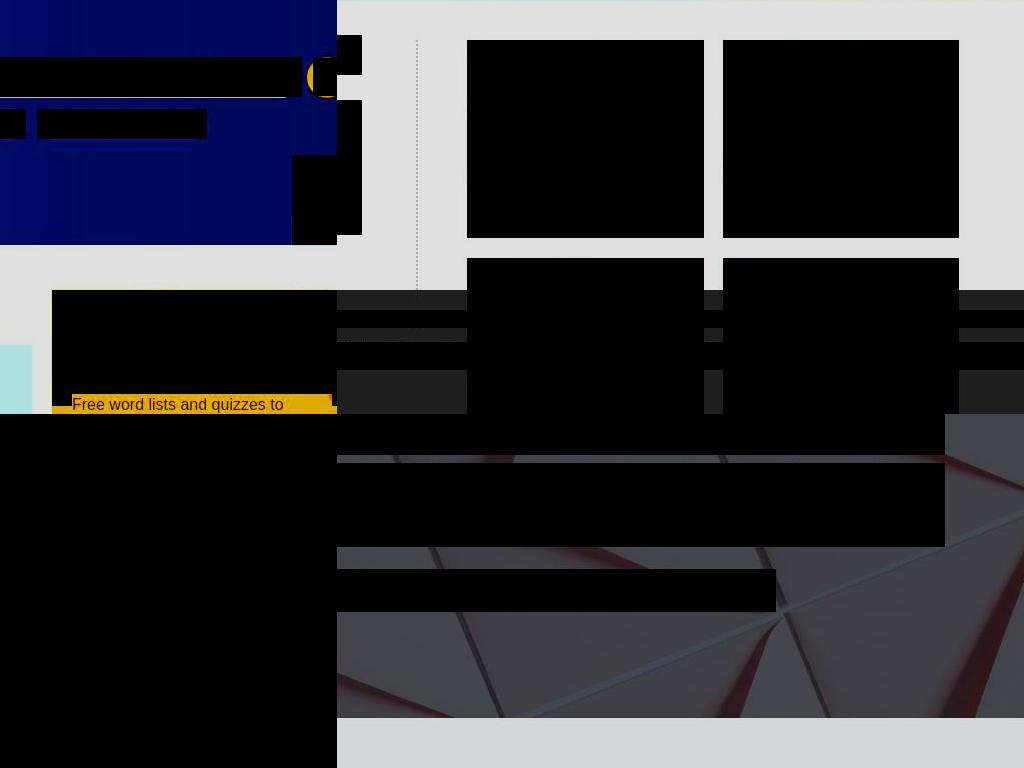button: (0, 414, 337, 768), (467, 40, 704, 238), (723, 40, 959, 238), (467, 258, 704, 414), (723, 258, 959, 414), (337, 569, 776, 612), (37, 109, 207, 139), (175, 63, 293, 91), (477, 370, 537, 397), (556, 370, 607, 397)
field: (0, 57, 302, 97)
heading: (337, 414, 945, 455), (337, 310, 1024, 328), (0, 658, 254, 697)
image: (0, 414, 337, 768), (52, 290, 337, 406), (292, 155, 337, 245)
link: (0, 702, 254, 724)
text: (337, 463, 945, 547), (337, 342, 1024, 370), (468, 181, 703, 237), (724, 181, 958, 237), (72, 347, 260, 379), (72, 394, 332, 414), (72, 315, 207, 347), (468, 399, 703, 414), (724, 399, 958, 414), (57, 115, 187, 132), (196, 68, 250, 86), (313, 58, 337, 96), (488, 376, 526, 391), (277, 702, 299, 724), (567, 376, 596, 391)
